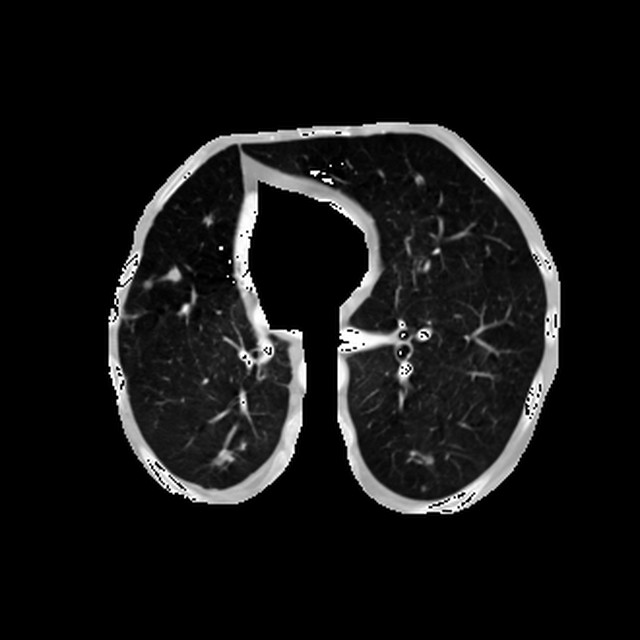PN: (215, 448, 231, 464)
